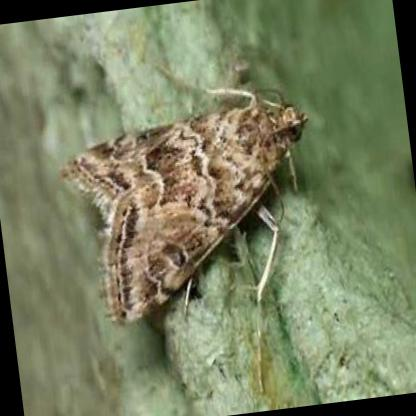Hellula undalis: (53, 59, 310, 395)
